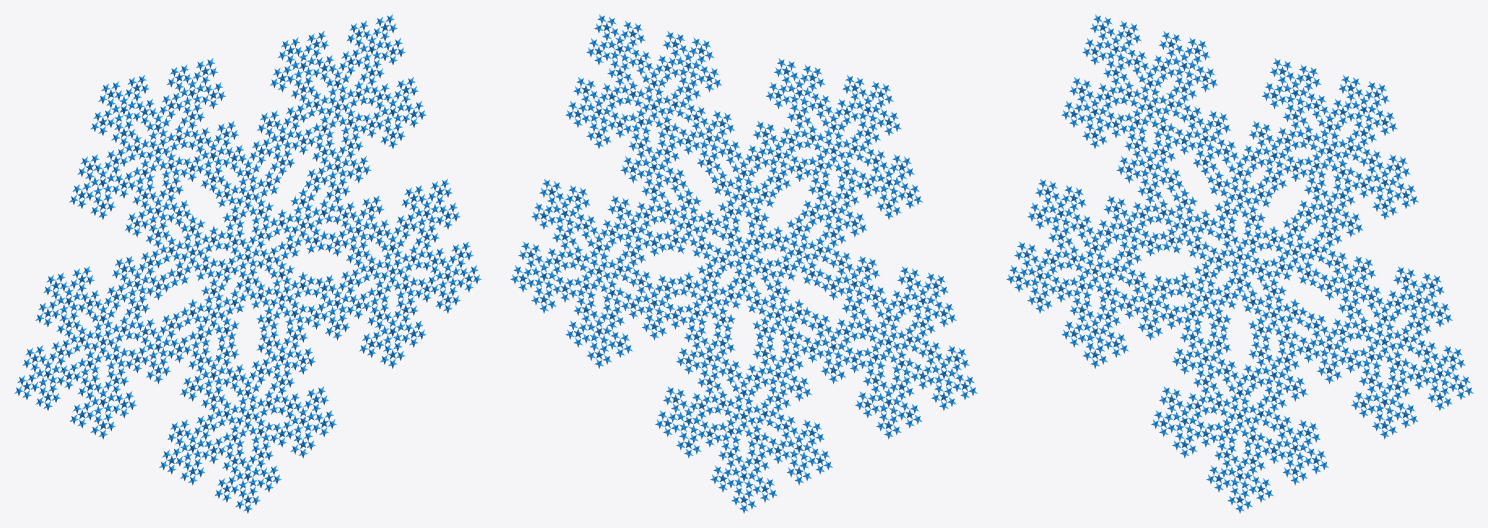
Rendered from fractalpentagrammicdipyramid4.glb.
3 views of the same model, side by side, from view 1: azimuth 30°, elevation 25°; view 2: azimuth 150°, elevation 25°; view 3: azimuth 330°, elevation 25° (orthographic).
Bounding box in the file's own units: 11.62 × 11.03 × 0.1214.
